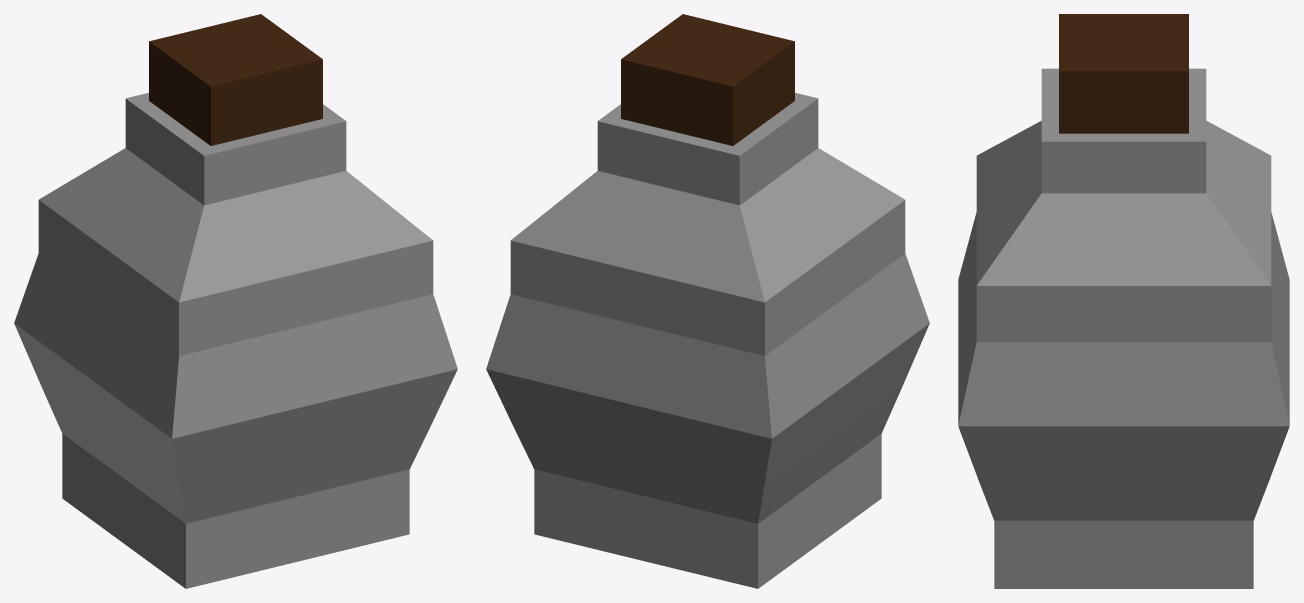
File: pocaoazul.FBX
The picture shows the model from 3 angles, left to right: view 1: azimuth 30°, elevation 25°; view 2: azimuth 150°, elevation 25°; view 3: azimuth 270°, elevation 25°; orthographic projection. The views are drawn at different scales.
Visible parts, largest first — view 1: Box002; view 2: Box002; view 3: Box002.
Boxes of the visible parts, x1,y1,x2,y2 form: Box002: (14, 14, 457, 588); Box002: (486, 14, 929, 588); Box002: (958, 14, 1289, 588).
Size of the model in its own units: 32.16 by 50.11 by 30.78.
